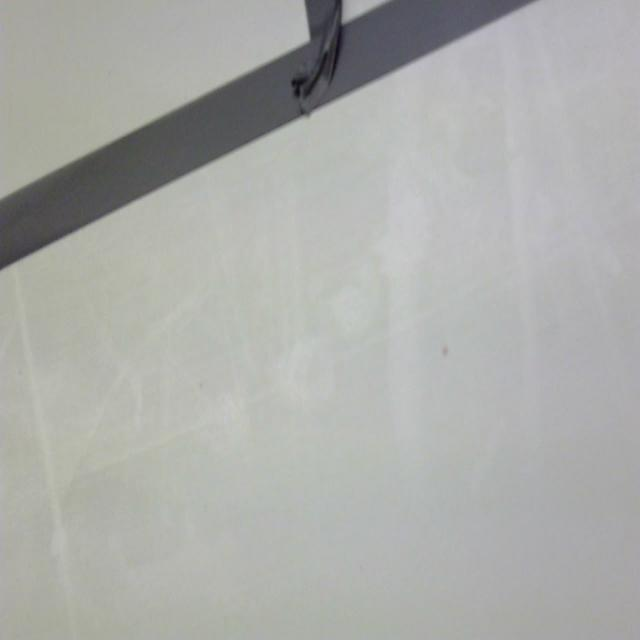tape: (0, 0, 574, 341)
